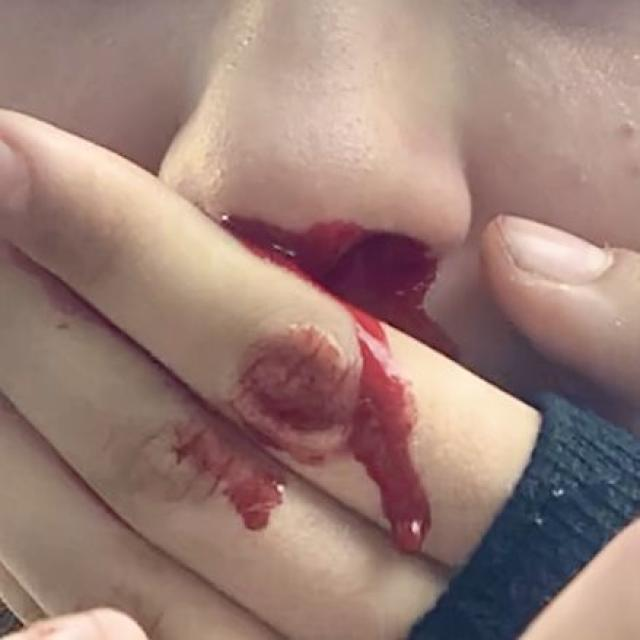INJURED PERSON: (150, 157, 539, 608)
